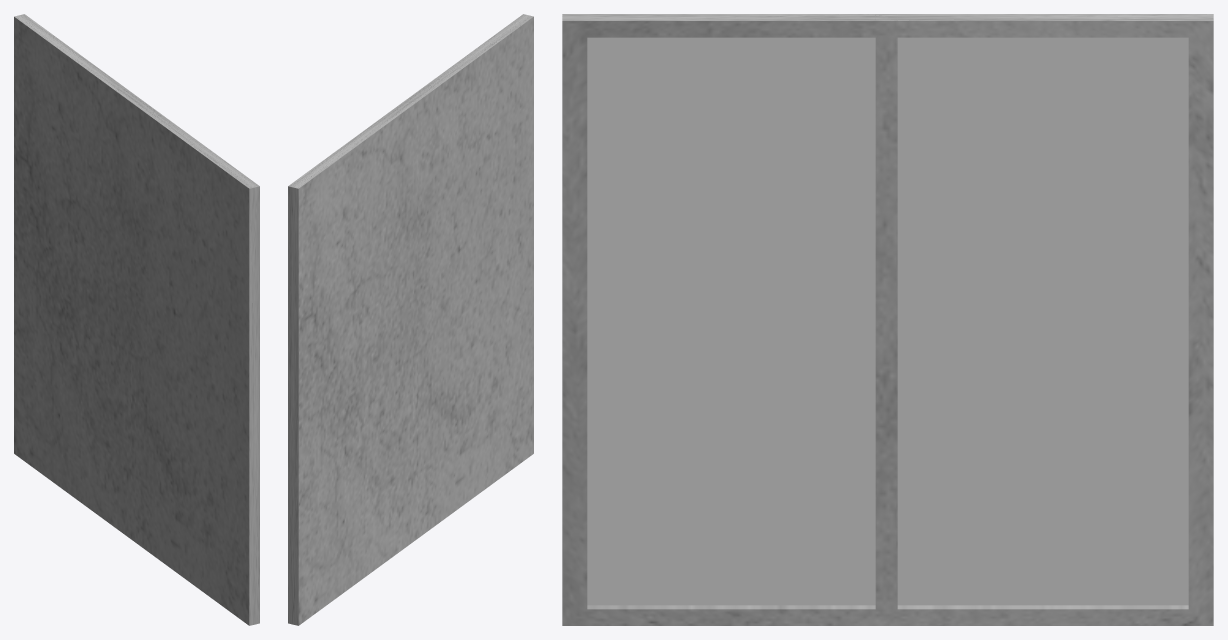
Rendered from GLASS_DOOR.fbx.
3 renders of one model, left to right at view 1: azimuth 30°, elevation 25°; view 2: azimuth 150°, elevation 25°; view 3: azimuth 270°, elevation 25°, orthographic. The views are drawn at different scales.
Visible parts, largest first — view 1: GLASS_DOOR; view 2: GLASS_DOOR; view 3: GLASS_DOOR.
Part boxes in pixels (x1,y1,x2,y2): GLASS_DOOR: [14, 14, 259, 625]; GLASS_DOOR: [288, 14, 533, 625]; GLASS_DOOR: [562, 14, 1213, 625].
Bounding box in the file's own units: 5.59 × 222 × 216.
